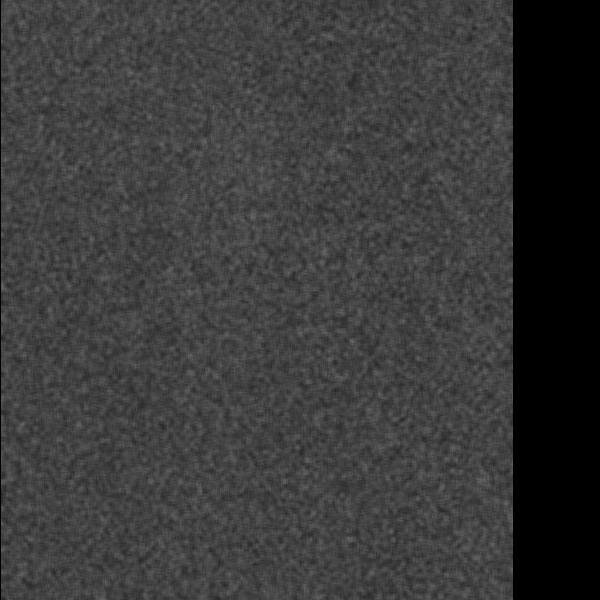spark: (283, 377, 316, 408), (282, 579, 318, 600)
